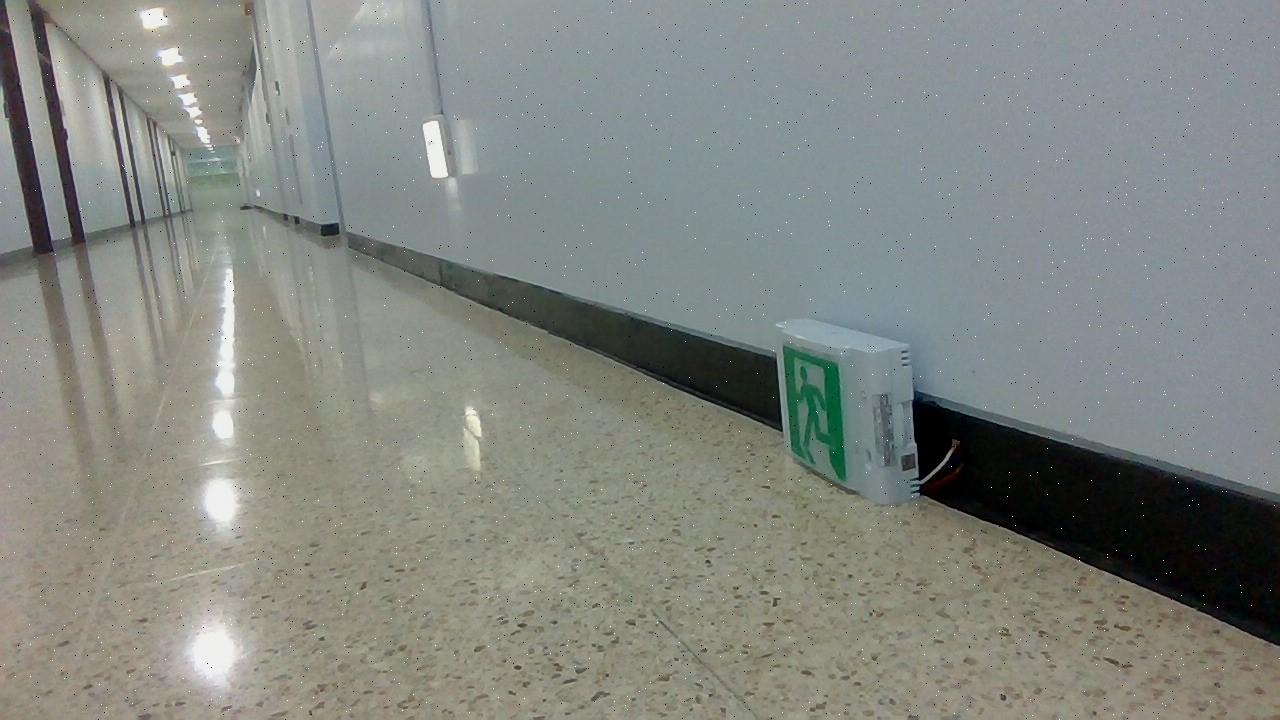emergency_exit: (773, 316, 922, 506), (779, 342, 848, 483)
